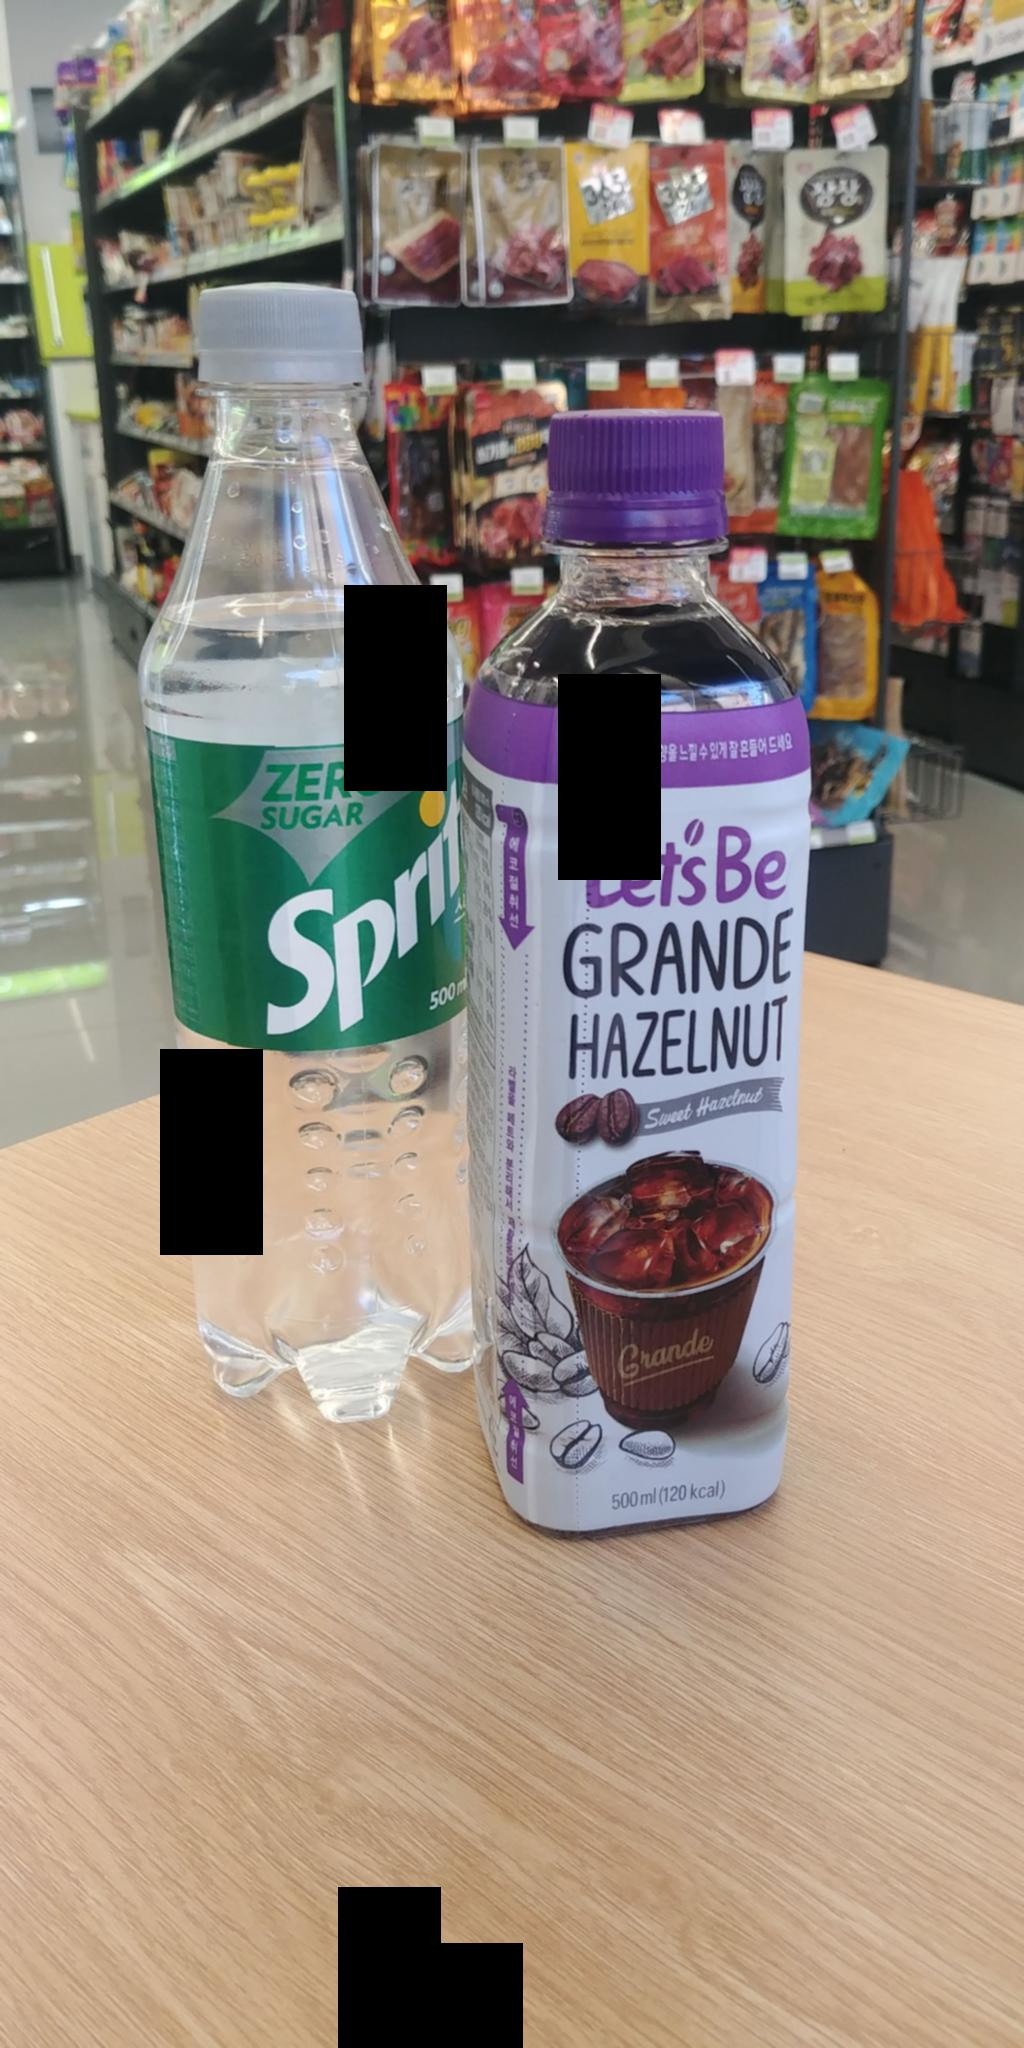letsbe_grande_hazelnut: (509, 384, 805, 1543)
sprite_zero: (110, 300, 512, 1428)
